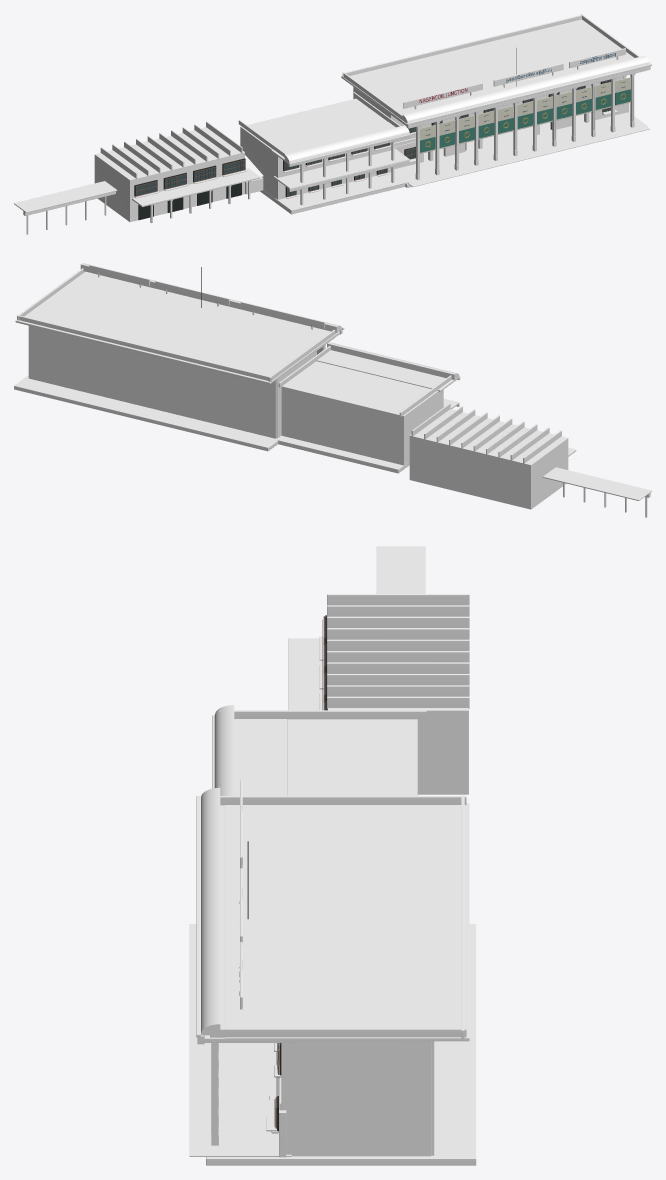
File: NCJ_2010_architecture.glb
The picture shows the model from 3 angles, top to bottom: view 1: azimuth 30°, elevation 25°; view 2: azimuth 150°, elevation 25°; view 3: azimuth 270°, elevation 25°; orthographic projection. The views are drawn at different scales.
Parts seen in each view (by area): view 1: Main roof slab, Lower wing building, Annex block, Public veranda red oxide floor, Rounded roof silhouette, Wing red oxide walk, Wing first floor balcony, Annex porch canopy, Wing roof canopy, Wing rounded fascia, Link canopy, Rear parapet (+10 smaller); view 2: Main roof slab, Rear wall, Lower wing building, Annex block, Main building plinth, Wing roof canopy, Link canopy, Rear parapet, Lower wing base, Wing rounded fascia, Tall canopy soffit, Rounded roof silhouette (+6 smaller); view 3: Main roof slab, End wall.001, Public veranda red oxide floor, Lower wing building, Main building plinth, Rounded roof silhouette, Annex block, Wing roof canopy, Roof side parapet.001, Link canopy, Annex porch canopy, Roof side parapet (+15 smaller).
Boxes of the visible parts, x1=… form: Main roof slab: x1=341, y1=19, x2=633, y2=120; Lower wing building: x1=240, y1=98, x2=391, y2=199; Annex block: x1=94, y1=127, x2=244, y2=221; Public veranda red oxide floor: x1=394, y1=112, x2=649, y2=186; Rounded roof silhouette: x1=402, y1=55, x2=649, y2=122; Wing red oxide walk: x1=275, y1=170, x2=409, y2=211; Wing first floor balcony: x1=273, y1=148, x2=409, y2=188; Annex porch canopy: x1=132, y1=168, x2=260, y2=207; Wing roof canopy: x1=271, y1=122, x2=410, y2=165; Wing rounded fascia: x1=284, y1=125, x2=409, y2=163; Link canopy: x1=14, y1=181, x2=117, y2=212; Rear parapet: x1=342, y1=15, x2=583, y2=77; Main roof slab: x1=15, y1=274, x2=334, y2=384; Rear wall: x1=28, y1=325, x2=276, y2=438; Lower wing building: x1=281, y1=361, x2=443, y2=465; Annex block: x1=409, y1=409, x2=568, y2=509; Main building plinth: x1=14, y1=375, x2=281, y2=451; Wing roof canopy: x1=316, y1=350, x2=459, y2=391; Link canopy: x1=542, y1=467, x2=651, y2=500; Rear parapet: x1=17, y1=315, x2=272, y2=381; Lower wing base: x1=276, y1=436, x2=409, y2=473; Wing rounded fascia: x1=327, y1=342, x2=459, y2=380; Tall canopy soffit: x1=83, y1=271, x2=339, y2=351; Rounded roof silhouette: x1=80, y1=263, x2=341, y2=332; Main roof slab: x1=225, y1=803, x2=469, y2=1041; End wall.001: x1=281, y1=1041, x2=431, y2=1156; Public veranda red oxide floor: x1=189, y1=924, x2=291, y2=1156; Lower wing building: x1=287, y1=719, x2=417, y2=795; Main building plinth: x1=206, y1=924, x2=476, y2=1165; Rounded roof silhouette: x1=201, y1=787, x2=220, y2=1035; Annex block: x1=327, y1=628, x2=468, y2=794; Wing roof canopy: x1=212, y1=715, x2=287, y2=795; Roof side parapet.001: x1=210, y1=1028, x2=466, y2=1037; Link canopy: x1=376, y1=546, x2=425, y2=593; Annex porch canopy: x1=288, y1=638, x2=323, y2=710; Roof side parapet: x1=220, y1=796, x2=466, y2=805.
Bounding box in the file's own units: 89.3 × 15.2 × 19.1.
